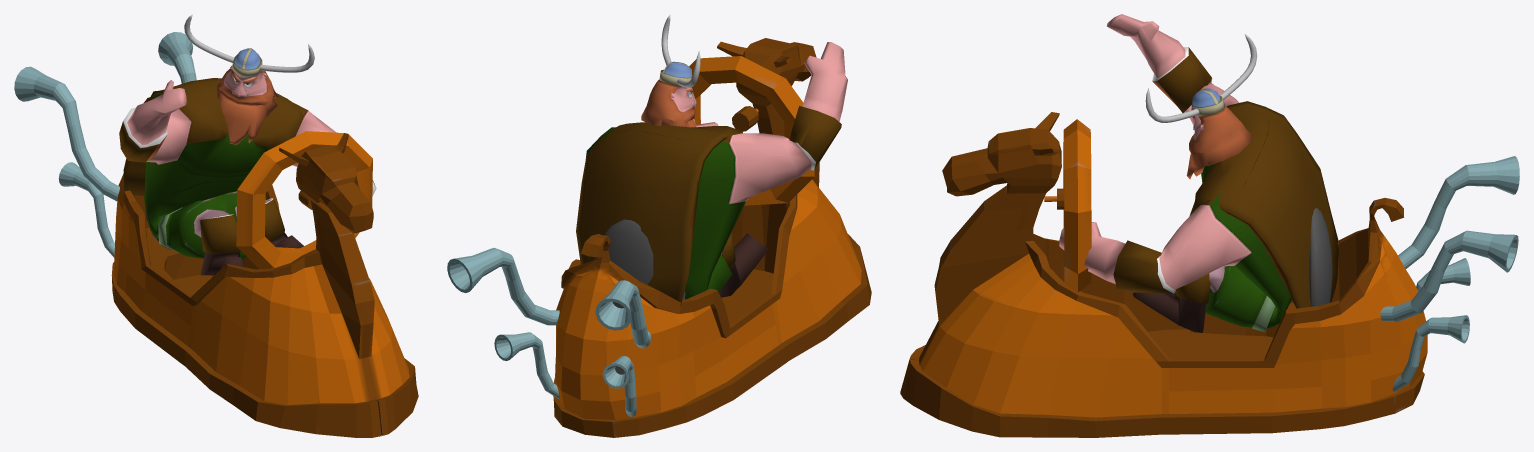
Rendered from vikingoVacile_000471.obj.
3 renders of one model, left to right at view 1: azimuth 30°, elevation 25°; view 2: azimuth 150°, elevation 25°; view 3: azimuth 270°, elevation 25°, orthographic. The views are drawn at different scales.
Visible parts, largest first — view 1: kartVikingo, Vikingo; view 2: kartVikingo, Vikingo; view 3: kartVikingo, Vikingo.
Boxes of the visible parts, x1,y1,x2,y2 form: kartVikingo: (14,32,418,437); Vikingo: (119,14,376,275); kartVikingo: (447,38,871,437); Vikingo: (576,14,847,305); kartVikingo: (900,112,1519,437); Vikingo: (1059,14,1338,332).
Bounding box in the file's own units: 4.9 × 6.33 × 10.31.
2 materials, 2 textured.
